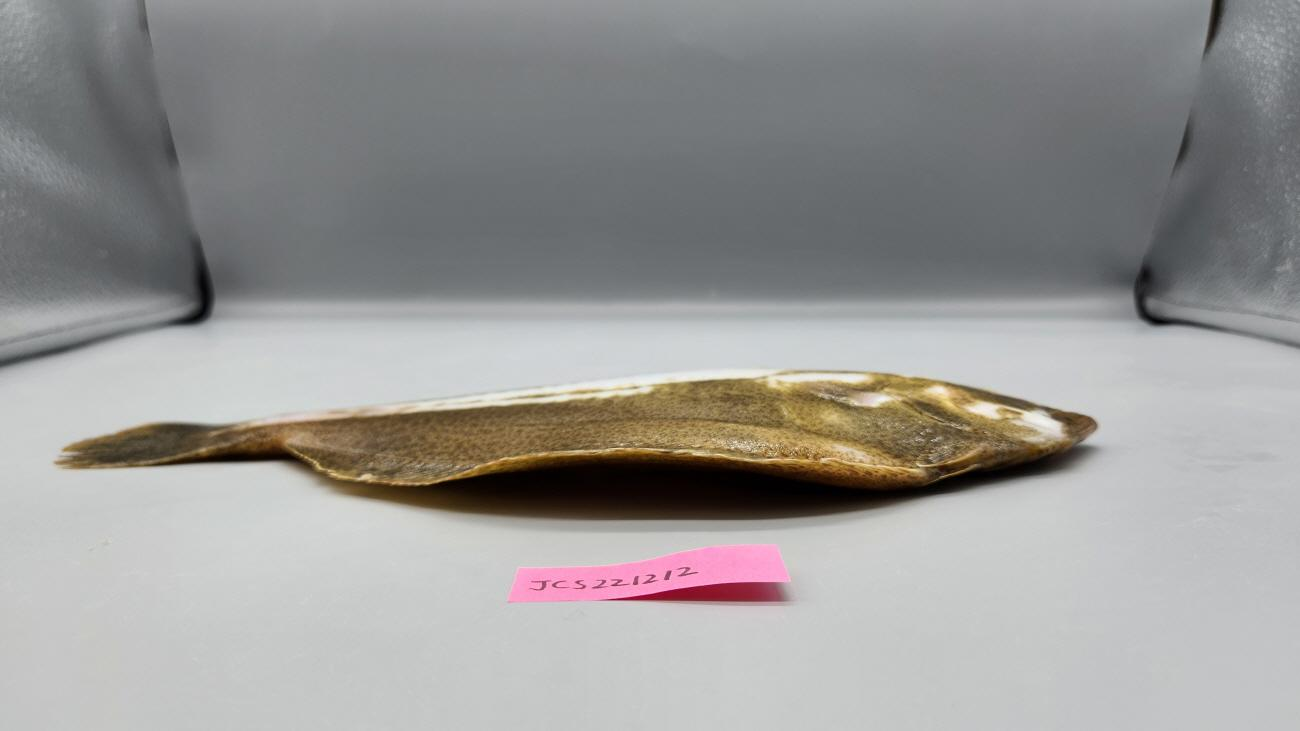POOUN: (53, 366, 1100, 502)
